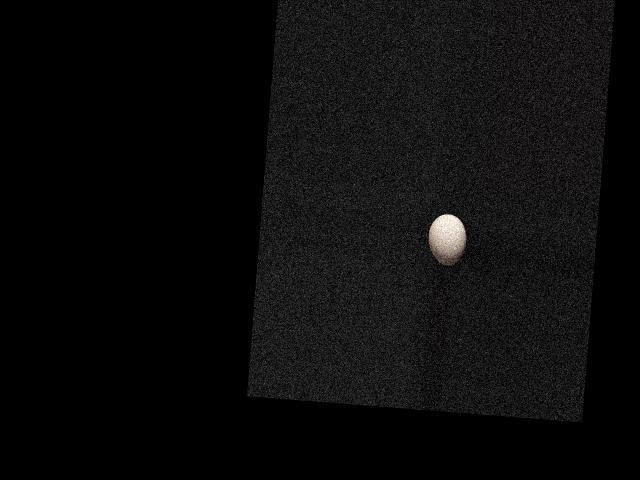egg: (426, 212, 468, 266)
